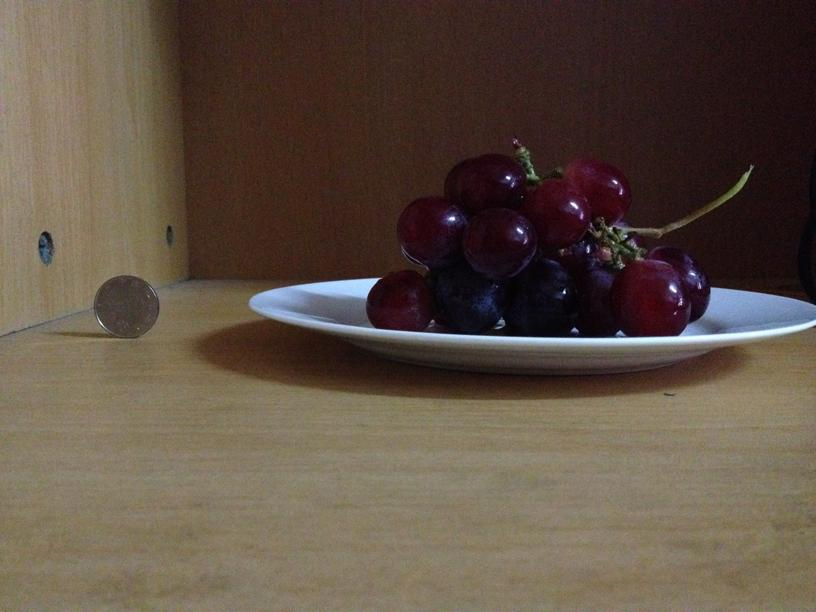coin: (92, 271, 158, 339)
grape: (366, 152, 709, 337)
